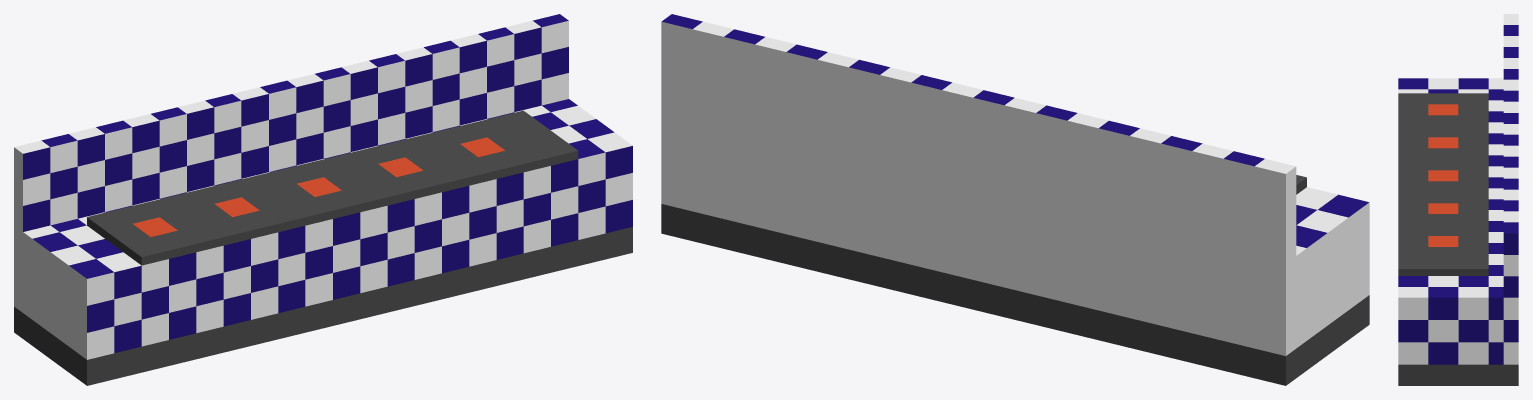
File: cocina4.gltf
3 renders of one model, left to right at view 1: azimuth 30°, elevation 25°; view 2: azimuth 150°, elevation 25°; view 3: azimuth 270°, elevation 25°, orthographic. The views are drawn at different scales.
Visible parts, largest first — view 1: Cube; view 2: Cube; view 3: Cube.
Boxes of the visible parts, <box> form: Cube: <box>14,14,632,385</box>; Cube: <box>661,14,1369,385</box>; Cube: <box>1398,14,1518,385</box>.
Bounding box in the file's own units: 10.58 × 3.43 × 2.46.
